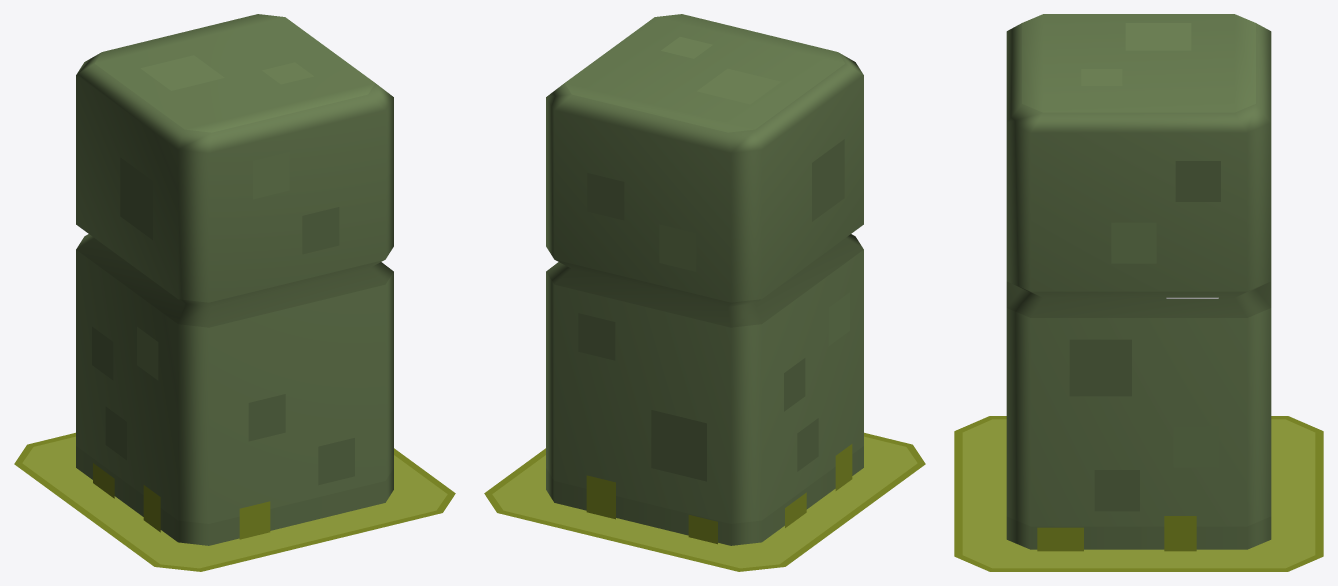
File: B_grass2_rock00.fbx
The picture shows the model from 3 angles, left to right: view 1: azimuth 30°, elevation 25°; view 2: azimuth 150°, elevation 25°; view 3: azimuth 270°, elevation 25°; orthographic projection. The views are drawn at different scales.
Visible parts, largest first — view 1: model 1, model; view 2: model 1, model; view 3: model 1, model.
Boxes of the visible parts, bbox=[...] form: model 1: bbox=[14, 14, 455, 571]; model: bbox=[22, 436, 447, 568]; model 1: bbox=[484, 14, 925, 571]; model: bbox=[492, 436, 917, 568]; model 1: bbox=[954, 14, 1323, 571]; model: bbox=[962, 419, 1315, 568].
Bounding box in the file's own units: 1.98 × 2.62 × 1.98.
